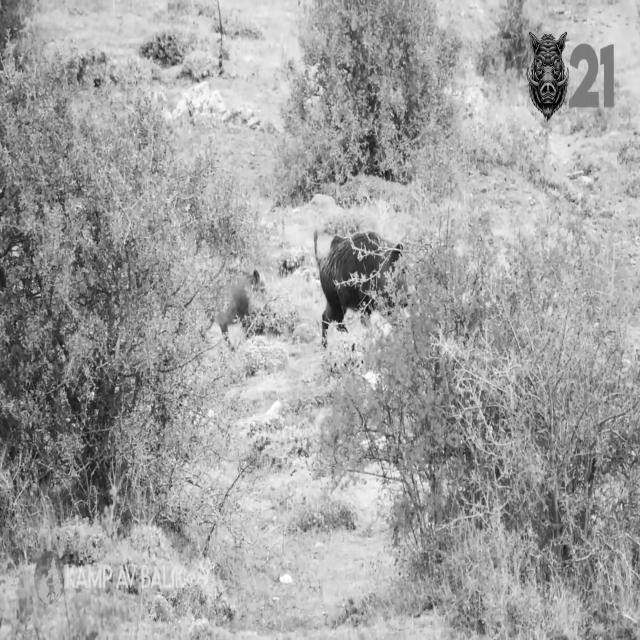boar: (315, 232, 401, 345), (191, 264, 281, 348)
